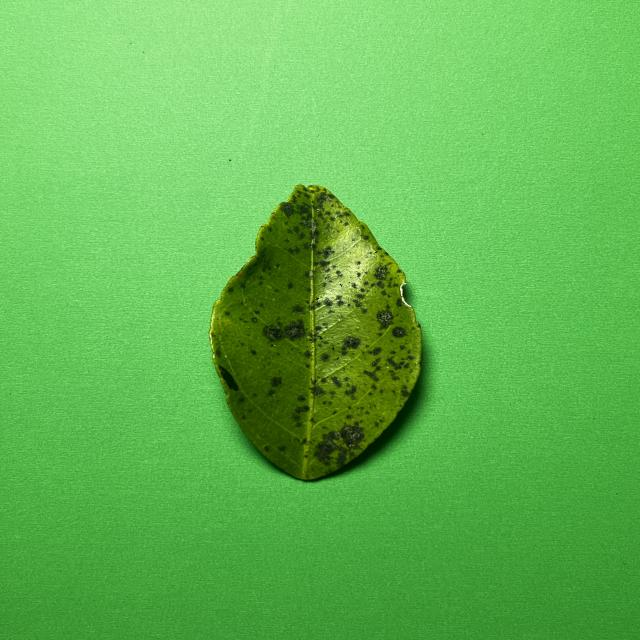sooty_mold: (210, 185, 422, 479)
